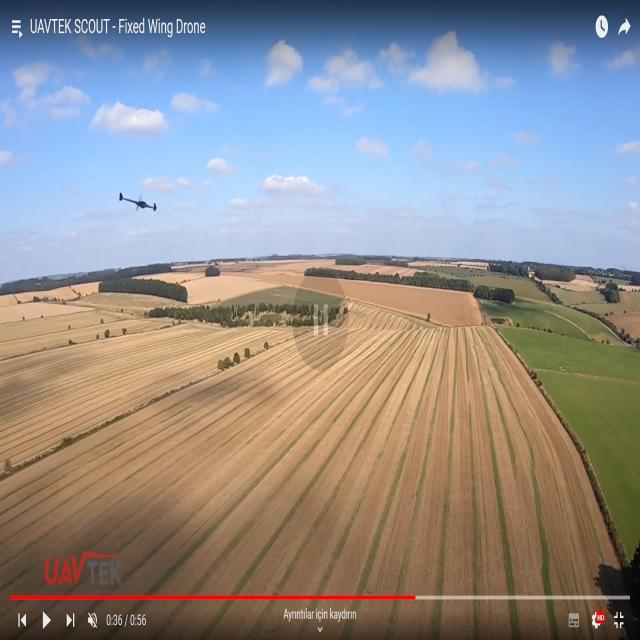iha: (110, 184, 151, 205)
